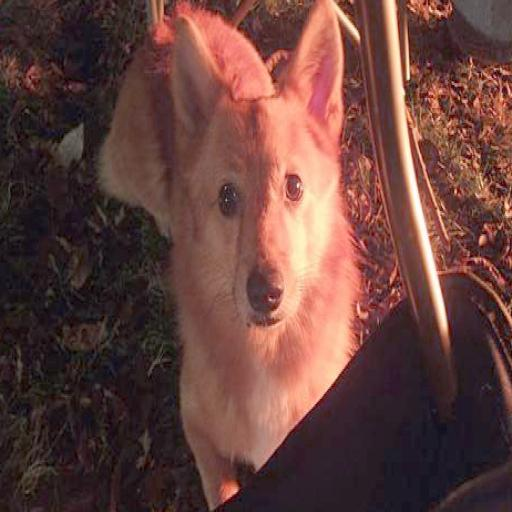dog_face: (174, 13, 346, 326)
